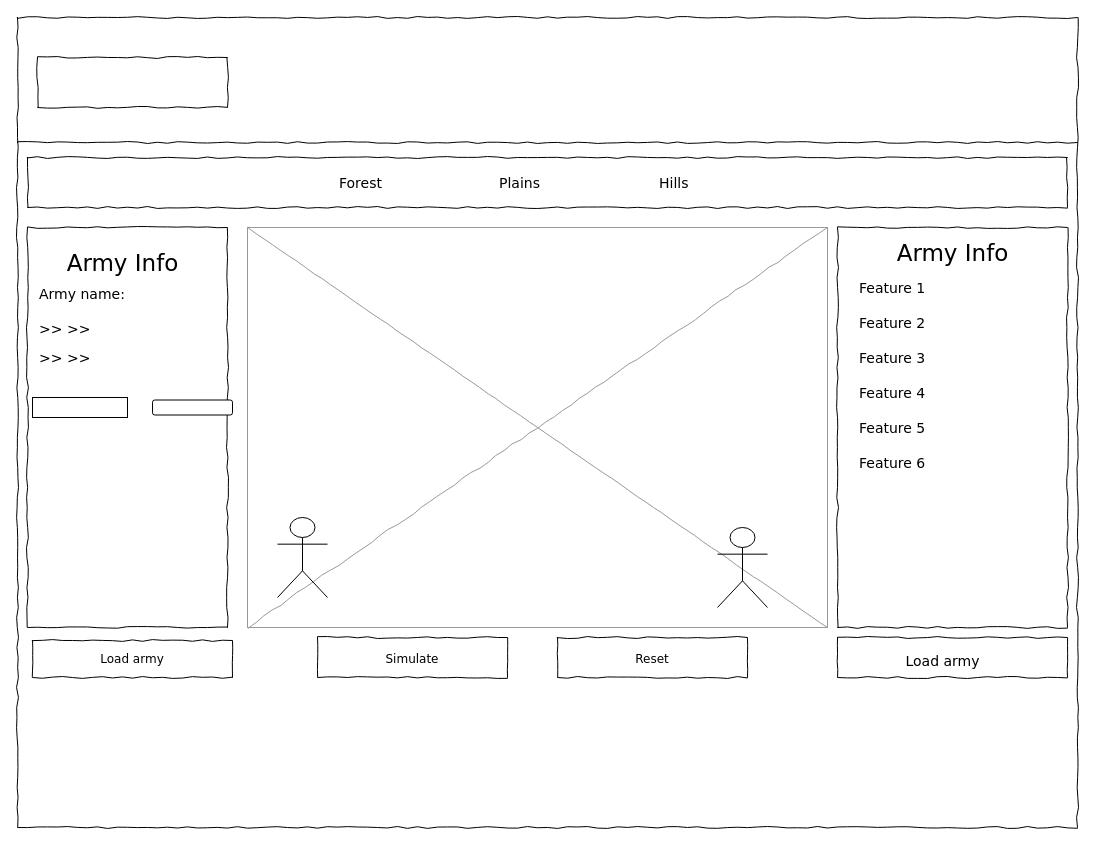
Image size: 1095x845. Some labels were removed from this diagram. The shapes that lost their labels are listed below. From the top down, each one's box as (x1, y1, x2, y2) in pixels, then its label:
(36, 56, 228, 108): LOGO
(152, 399, 232, 415): save army
